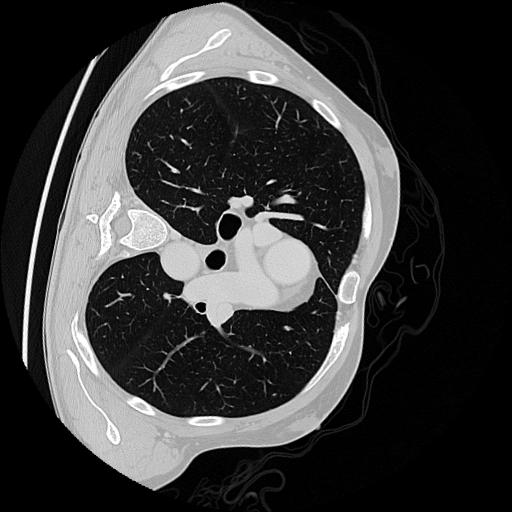nodule: (161, 289, 175, 303)
